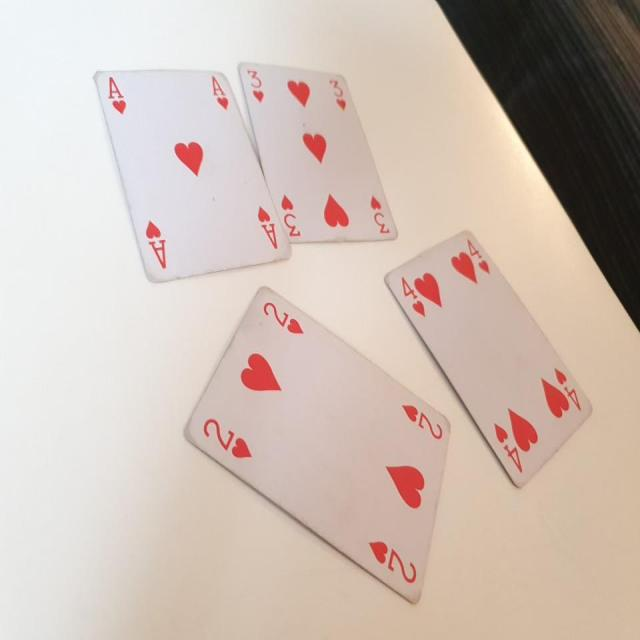2 Hearts: (179, 280, 458, 615)
3 Hearts: (238, 60, 400, 246)
4 Hearts: (371, 228, 620, 481)
A Hearts: (94, 58, 294, 293)
